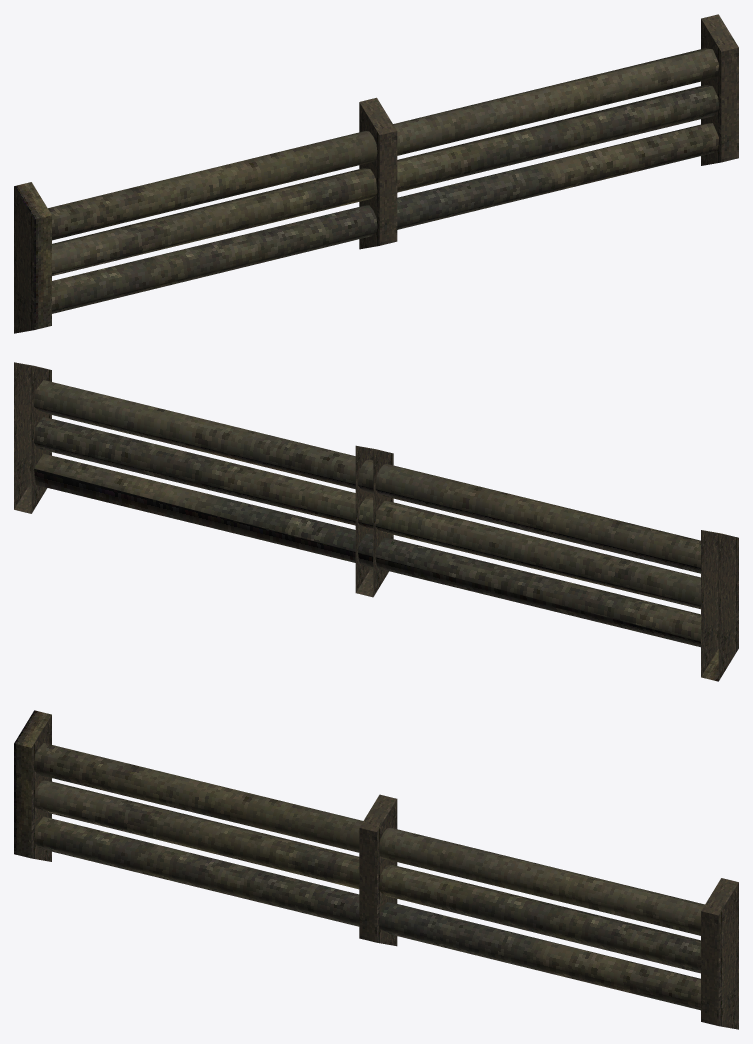
Rendered from pipes_hr_1_horizontal_middle_1.glb.
3 renders of one model, top to bottom at view 1: azimuth 30°, elevation 25°; view 2: azimuth 150°, elevation 25°; view 3: azimuth 330°, elevation 25°, orthographic.
Parts seen in each view (by area): view 1: pipes_hr_1_horizontal_middle_1; view 2: pipes_hr_1_horizontal_middle_1; view 3: pipes_hr_1_horizontal_middle_1.
Part boxes in pixels (box(x1,y1,x2,y2)): pipes_hr_1_horizontal_middle_1: box(14, 14, 738, 333); pipes_hr_1_horizontal_middle_1: box(14, 362, 738, 681); pipes_hr_1_horizontal_middle_1: box(14, 710, 738, 1029).
Bounding box in the file's own units: 2 × 0.4 × 0.1.
1 material, 1 textured.
